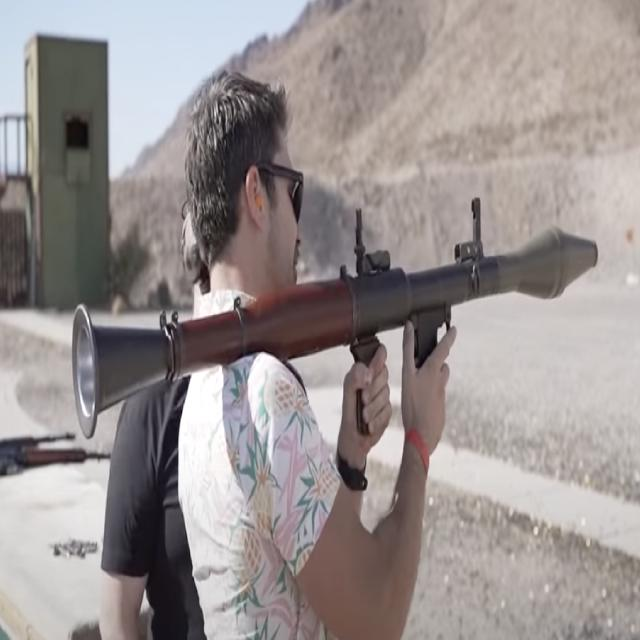bazooka: (60, 187, 613, 473)
